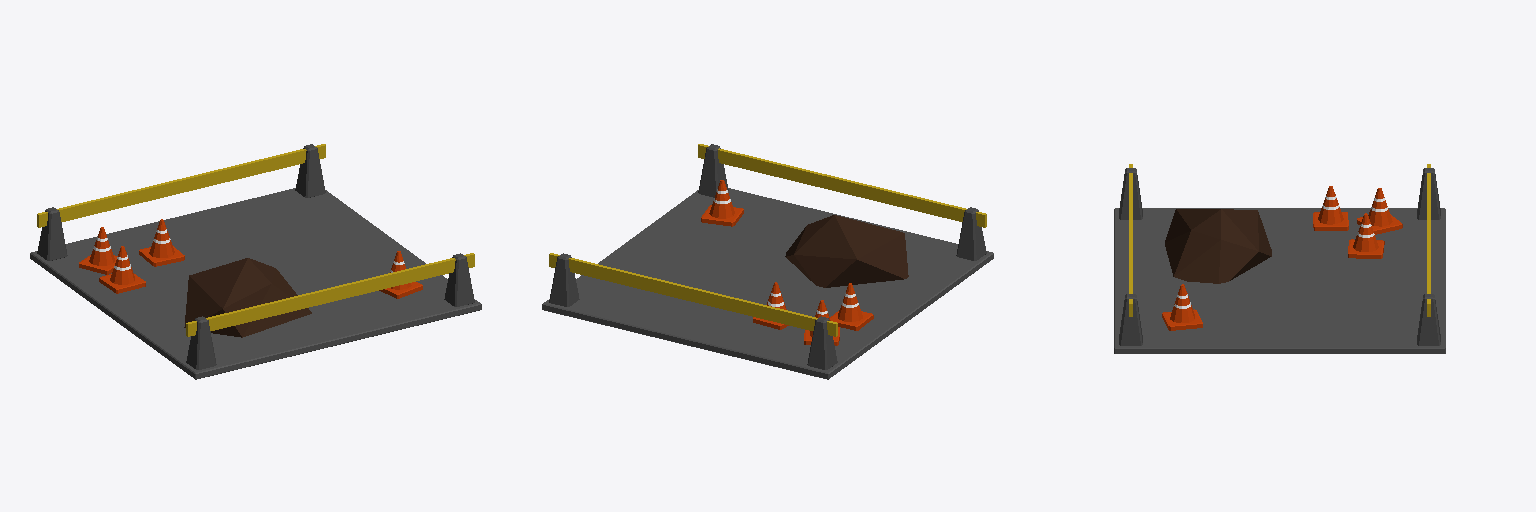
The model's file is empty-lot.obj.
3 views of the same model, side by side, from view 1: azimuth 30°, elevation 25°; view 2: azimuth 150°, elevation 25°; view 3: azimuth 270°, elevation 25° (orthographic).
Visible parts, largest first — view 1: Plane, Icosphere, Cube.005_Cube.006, Cube.004_Cube.005, Cube_Cube.001, Cube.003_Cube.004, Cube.002_Cube.003, Cube.001_Cube.002, Cylinder.002, Cylinder, Cylinder.003; view 2: Plane, Icosphere, Cube.004_Cube.005, Cube.005_Cube.006, Cube.001_Cube.002, Cube.003_Cube.004, Cube_Cube.001, Cube.002_Cube.003, Cylinder.004, Cylinder.003; view 3: Plane, Icosphere, Cube.002_Cube.003, Cube.003_Cube.004, Cube_Cube.001, Cube.001_Cube.002, Cylinder.003, Cylinder.004, Cylinder, Cylinder.002, Cube.004_Cube.005, Cube.005_Cube.006.
Boxes of the visible parts, x1=… form: Plane: x1=30, y1=188, x2=481, y2=379; Icosphere: x1=184, y1=258, x2=311, y2=337; Cube.005_Cube.006: x1=37, y1=144, x2=325, y2=227; Cube.004_Cube.005: x1=186, y1=253, x2=474, y2=336; Cube_Cube.001: x1=37, y1=207, x2=67, y2=260; Cube.003_Cube.004: x1=295, y1=144, x2=325, y2=197; Cube.002_Cube.003: x1=444, y1=253, x2=474, y2=306; Cube.001_Cube.002: x1=186, y1=316, x2=216, y2=369; Cylinder.002: x1=89, y1=227, x2=114, y2=265; Cylinder: x1=149, y1=219, x2=174, y2=257; Cylinder.003: x1=110, y1=246, x2=134, y2=284; Plane: x1=542, y1=188, x2=993, y2=379; Icosphere: x1=785, y1=215, x2=908, y2=287; Cube.004_Cube.005: x1=698, y1=144, x2=986, y2=227; Cube.005_Cube.006: x1=549, y1=253, x2=837, y2=336; Cube.001_Cube.002: x1=956, y1=207, x2=986, y2=260; Cube.003_Cube.004: x1=549, y1=253, x2=579, y2=306; Cube_Cube.001: x1=807, y1=316, x2=837, y2=369; Cube.002_Cube.003: x1=698, y1=144, x2=728, y2=197; Cylinder.004: x1=709, y1=180, x2=734, y2=218; Cylinder.003: x1=838, y1=283, x2=862, y2=321; Plane: x1=1114, y1=208, x2=1445, y2=353; Icosphere: x1=1165, y1=209, x2=1271, y2=283; Cube.002_Cube.003: x1=1119, y1=294, x2=1142, y2=345; Cube.003_Cube.004: x1=1417, y1=294, x2=1440, y2=345; Cube_Cube.001: x1=1417, y1=168, x2=1440, y2=219; Cube.001_Cube.002: x1=1119, y1=168, x2=1142, y2=219; Cylinder.003: x1=1318, y1=186, x2=1343, y2=224; Cylinder.004: x1=1170, y1=284, x2=1194, y2=322; Cylinder: x1=1353, y1=213, x2=1378, y2=251; Cylinder.002: x1=1368, y1=188, x2=1392, y2=226; Cube.004_Cube.005: x1=1129, y1=164, x2=1132, y2=316; Cube.005_Cube.006: x1=1427, y1=164, x2=1430, y2=316.
Bounding box in the file's own units: 2.01 × 0.3844 × 2.